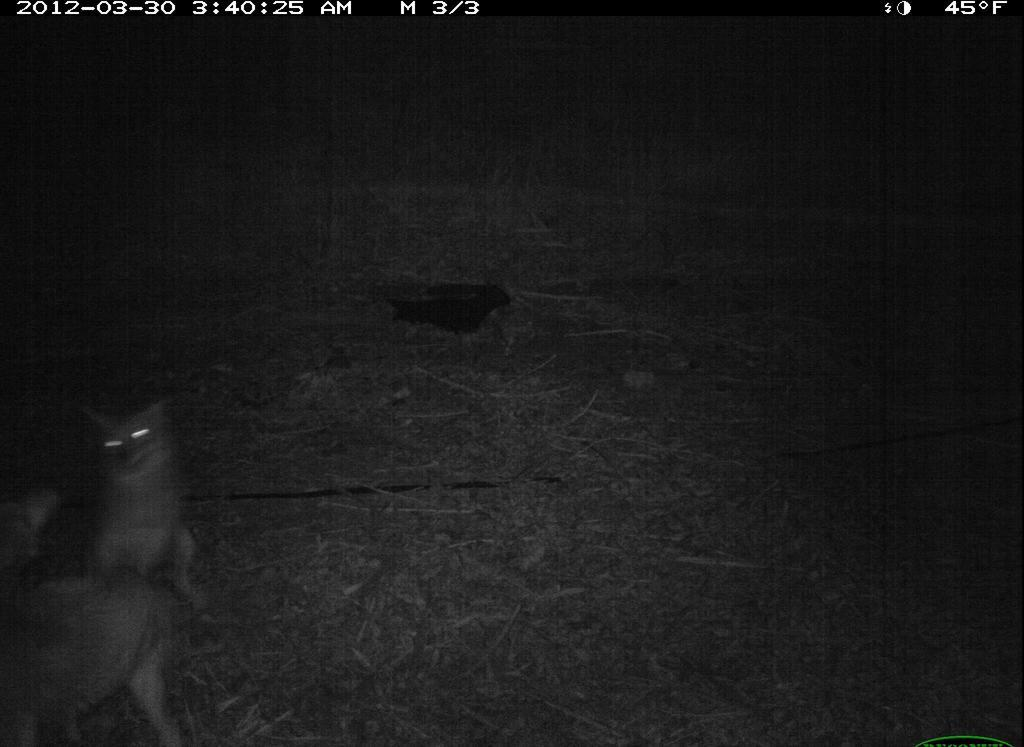coyote: (6, 386, 213, 632), (1, 570, 187, 745)
